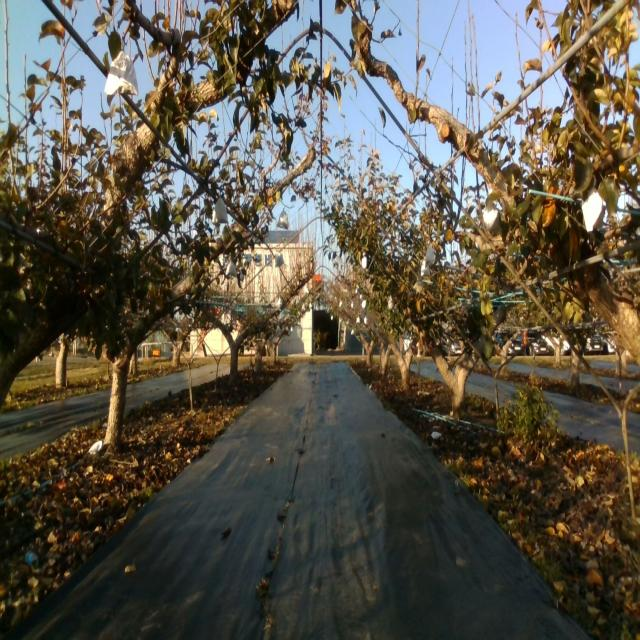pearbags: (104, 54, 138, 98), (582, 189, 605, 232), (212, 197, 228, 224), (484, 202, 498, 231), (276, 211, 289, 231), (426, 245, 436, 268)
